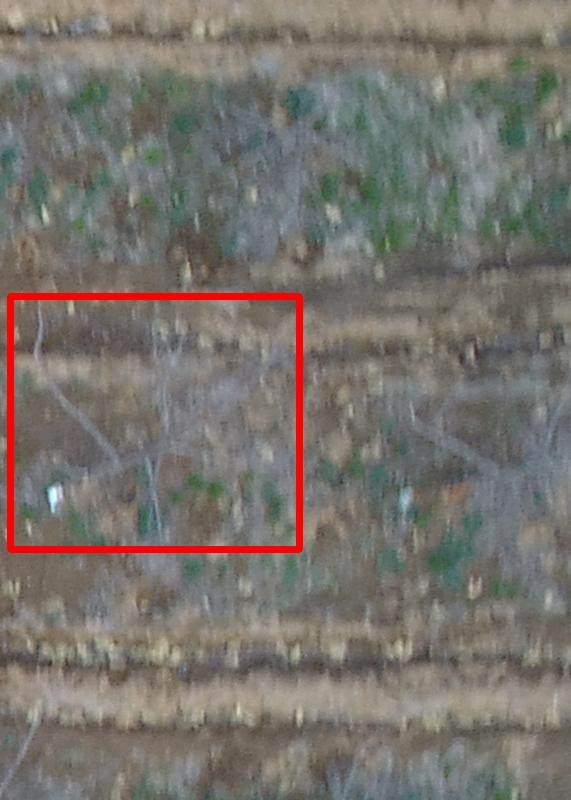apple: (10, 296, 299, 549)
